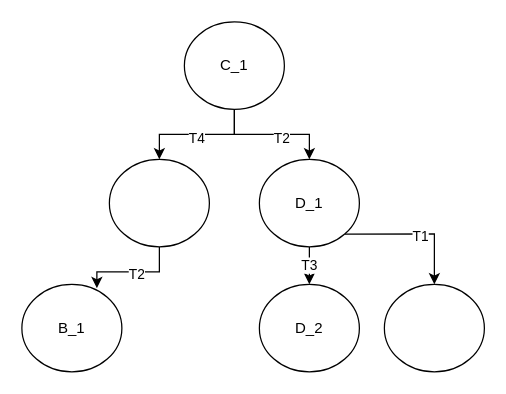
Some shapes in this 506 by 394 pixel diagram are drawn without their labels. Each missing label, with the centre of its shape:
"A_1" goes at point 158,202.
"A_2" goes at point 433,327.
